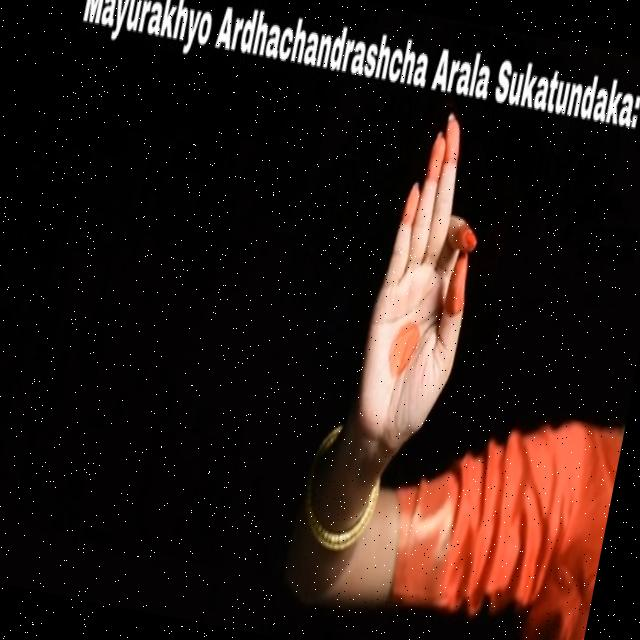Arala: (338, 100, 519, 465)
bangle: (278, 465, 392, 560)
text: (66, 0, 640, 158)
